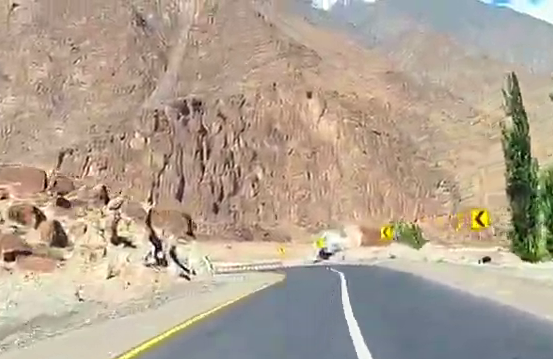right: (234, 236, 469, 333)
